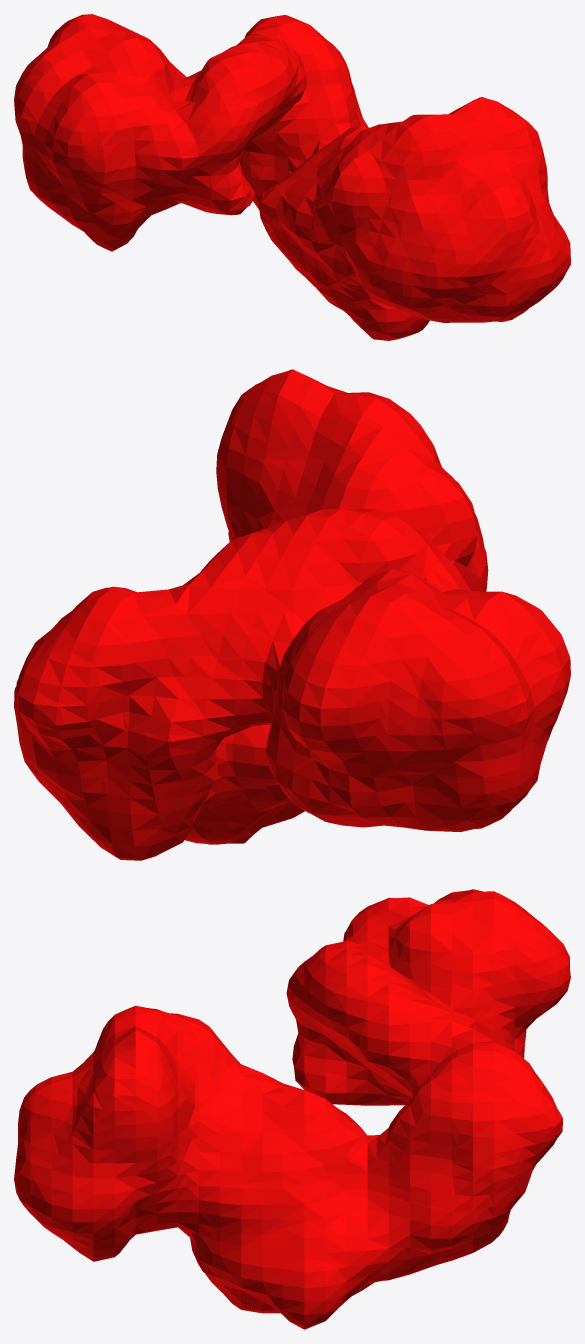
The model's file is cysG_coarse.dae.
The picture shows the model from 3 angles, top to bottom: view 1: azimuth 30°, elevation 25°; view 2: azimuth 150°, elevation 25°; view 3: azimuth 270°, elevation 25°; orthographic projection. The views are drawn at different scales.
Parts seen in each view (by area): view 1: cysG; view 2: cysG; view 3: cysG.
Boxes of the visible parts, <box> form: cysG: <box>14,14,570,340</box>; cysG: <box>14,369,570,860</box>; cysG: <box>14,889,570,1329</box>.
Bounding box in the file's own units: 74 × 54.57 × 89.23.
